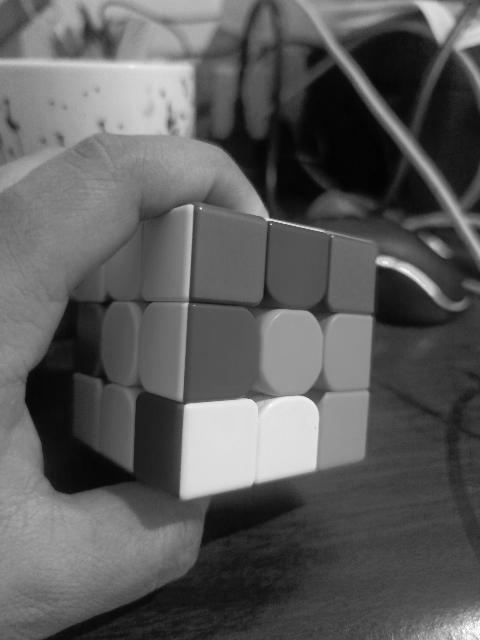rubik: (71, 201, 379, 501)
